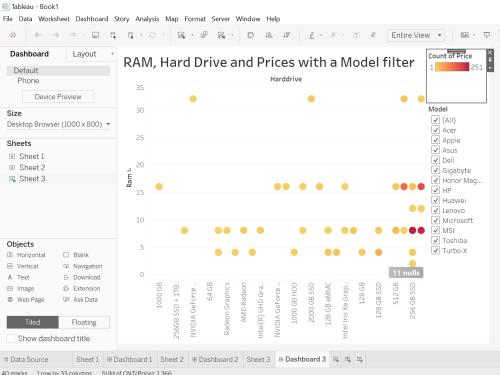

The page's visual inventory and layout, read from the dashboard file:
{"tool":"tableau","page":{"name":"Dashboard 3","canvas":[1000,800],"ordinal":2},"visuals":[{"type":"worksheet","title":"Sheet 3","mark":"Shape","rows":["ram"],"cols":["harddrive"],"box":[8,8,824,784]},{"type":"legend","title":"Sheet 3","param":"[federated.11rt15r0h4tbzu1ei2k5v08qwe35].[cnt:price:qk]","box":[832,8,160,143]},{"type":"filter","title":"Sheet 3","param":"[federated.11rt15r0h4tbzu1ei2k5v08qwe35].[none:model:nk]","box":[832,151,160,418]}]}

Visuals, with their boxes on the page's 1000x800 design canvas (x1, y1, x2, y2). These are canvas units, not pixel positions in the 500x375 screenshot, which may show the page scaled, cropped or inside an application window:
"Sheet 3" worksheet (Shape marks): detection(8, 8, 832, 792)
"Sheet 3" legend: detection(832, 8, 992, 151)
"Sheet 3" filter: detection(832, 151, 992, 569)
